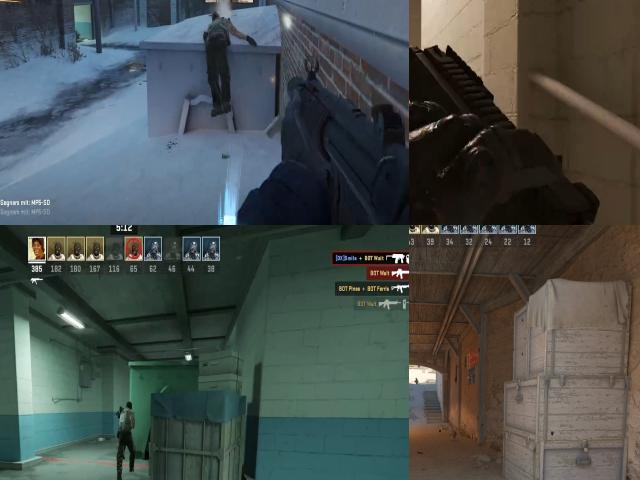CT: (415, 378, 418, 384)
CT-Head: (416, 378, 417, 380)
Dead: (200, 0, 244, 123)
T: (118, 392, 136, 444)
T-Head: (123, 398, 134, 412)
